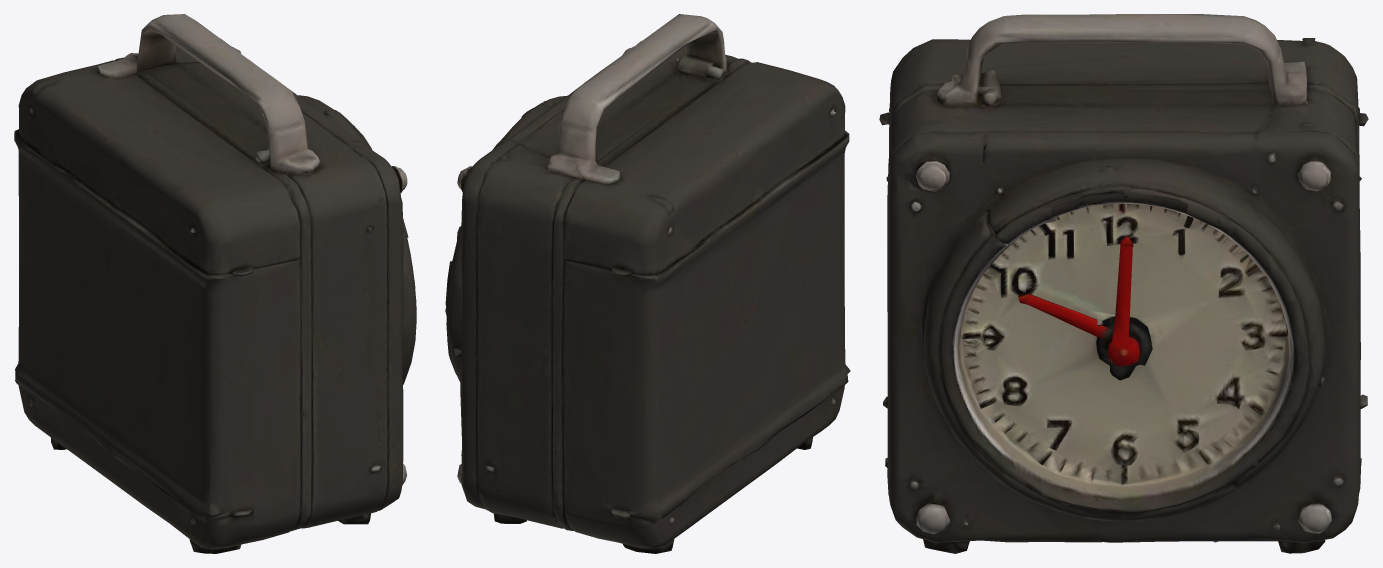
File: timer.glb
The picture shows the model from 3 angles, left to right: view 1: azimuth 30°, elevation 25°; view 2: azimuth 150°, elevation 25°; view 3: azimuth 270°, elevation 25°; orthographic projection. The views are drawn at different scales.
Parts seen in each view (by area): view 1: tripo_node_e15f7f89-8486-4512-a207-417d6d52f4fa; view 2: tripo_node_e15f7f89-8486-4512-a207-417d6d52f4fa; view 3: tripo_node_e15f7f89-8486-4512-a207-417d6d52f4fa.
Part boxes in pixels (x1,y1,x2,y2): tripo_node_e15f7f89-8486-4512-a207-417d6d52f4fa: (14,14,416,553); tripo_node_e15f7f89-8486-4512-a207-417d6d52f4fa: (445,14,850,553); tripo_node_e15f7f89-8486-4512-a207-417d6d52f4fa: (879,14,1368,553).
Size of the model in its own units: 0.1161 by 0.2 by 0.1791.
Materials: 1 (1 with a texture image).
